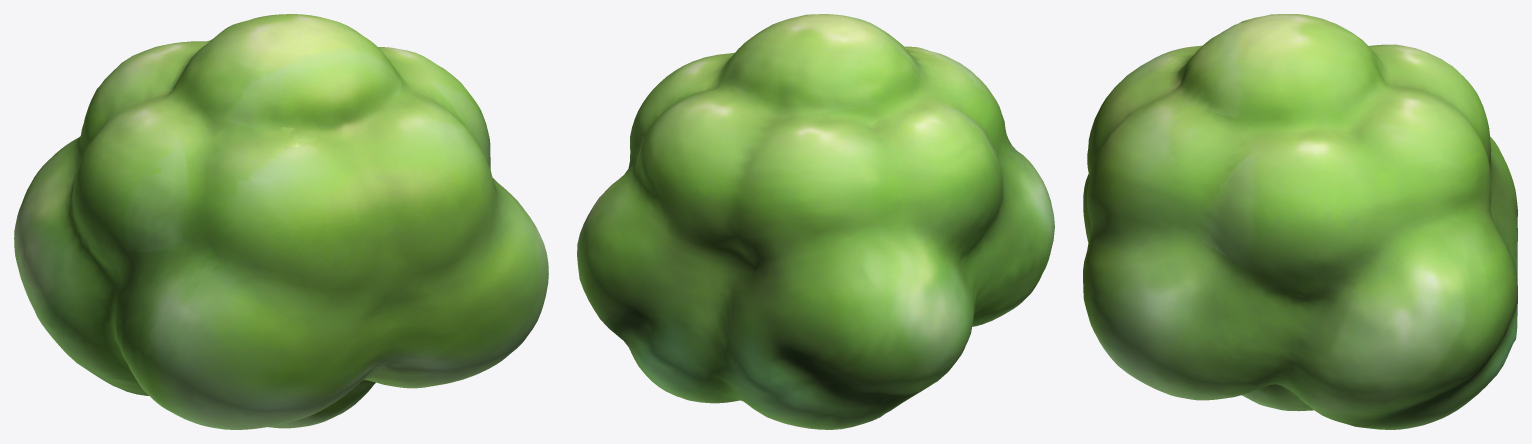
Rendered from proj_poison.glb.
3 views of the same model, side by side, from view 1: azimuth 30°, elevation 25°; view 2: azimuth 150°, elevation 25°; view 3: azimuth 270°, elevation 25° (orthographic). The views are drawn at different scales.
Parts seen in each view (by area): view 1: Poison Cloud; view 2: Poison Cloud; view 3: Poison Cloud.
Part boxes in pixels (box(x1,y1,x2,y2)): Poison Cloud: box(14, 14, 548, 429); Poison Cloud: box(577, 14, 1054, 429); Poison Cloud: box(1083, 14, 1517, 429).
Size of the model in its own units: 2 by 1.89 by 2.
Materials: 1 (1 with a texture image).
